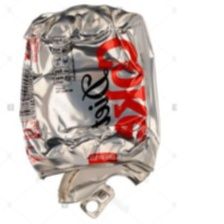can: (15, 2, 166, 220)
